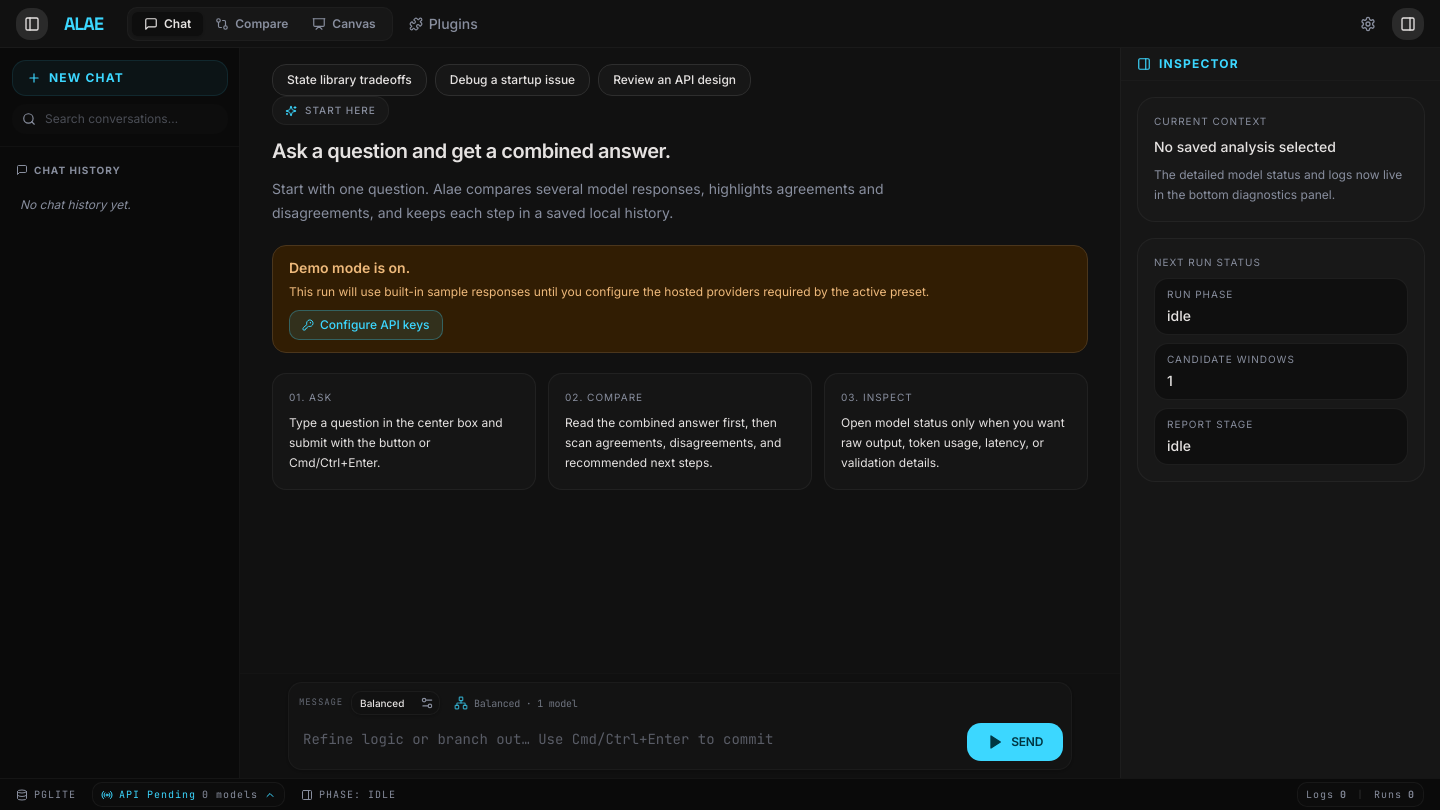
Scenario: App › opens settings modal with provider access when gear icon is clicked
The width and height of the screenshot is (1440, 810).
Check: the heading "Ask a question and get a combined answer." is shown, box [272,139,670,163]
Click the button named "Settings".
click(1368, 24)  # box [1352,8,1384,40]
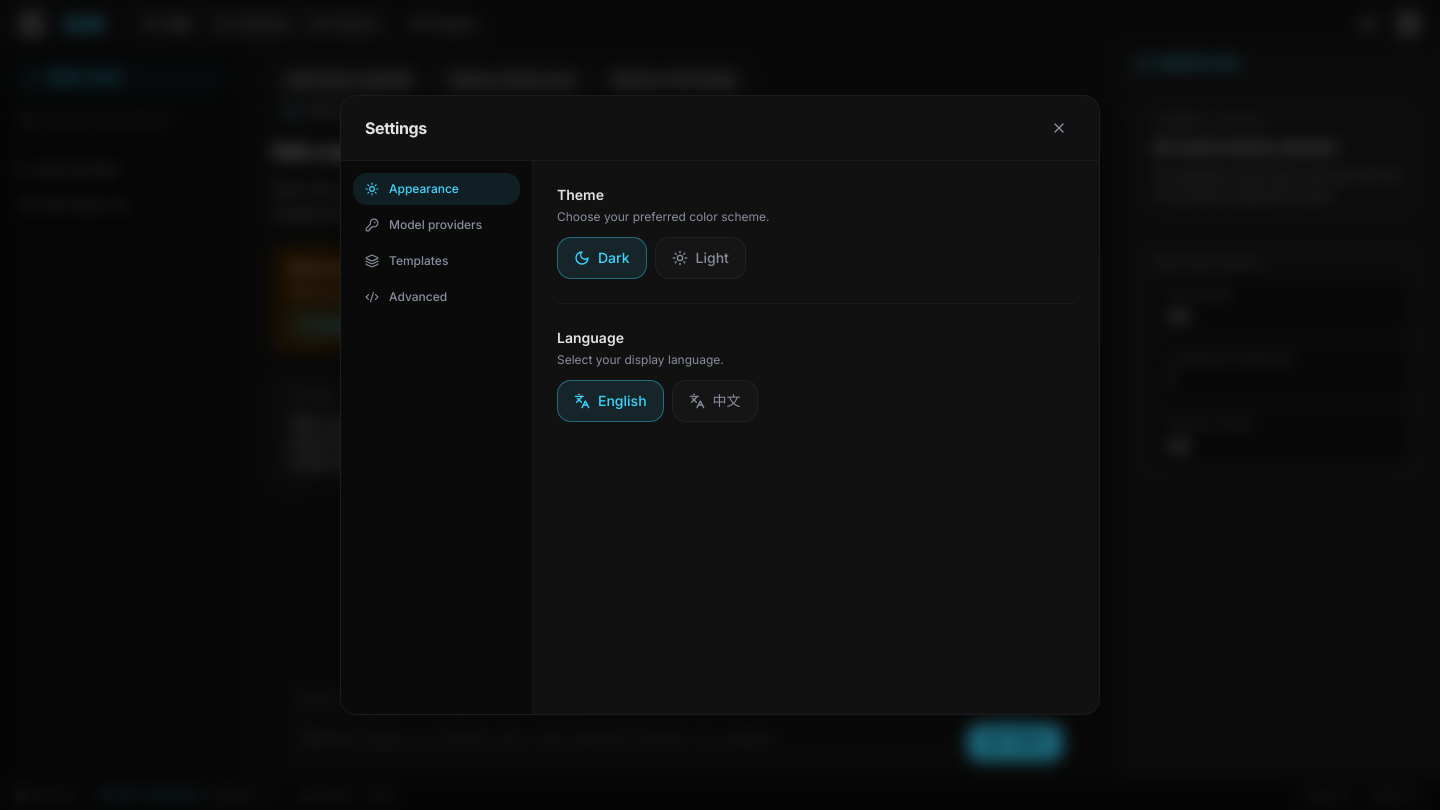
Check: the button "Appearance" is shown, box [353,173,520,205]
Check: the button "Model providers" is shown, box [353,209,520,241]
Check: the button "Advanced" is shown, box [353,281,520,313]
